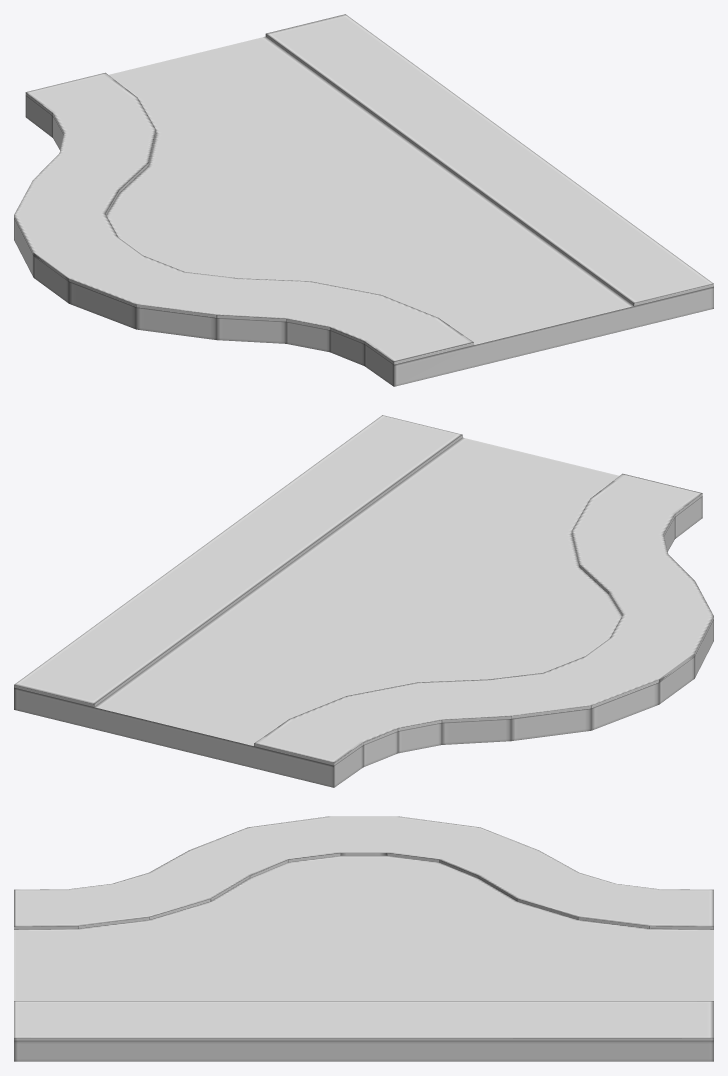
The model's file is Road-09.fbx.
3 renders of one model, top to bottom at view 1: azimuth 30°, elevation 25°; view 2: azimuth 150°, elevation 25°; view 3: azimuth 270°, elevation 25°, orthographic. The views are drawn at different scales.
Visible parts, largest first — view 1: Road_09; view 2: Road_09; view 3: Road_09.
Part boxes in pixels (x1=…): Road_09: x1=14, y1=14, x2=713, y2=386; Road_09: x1=14, y1=415, x2=713, y2=787; Road_09: x1=14, y1=816, x2=713, y2=1061.
Size of the model in its own units: 6 by 0.3 by 8.
